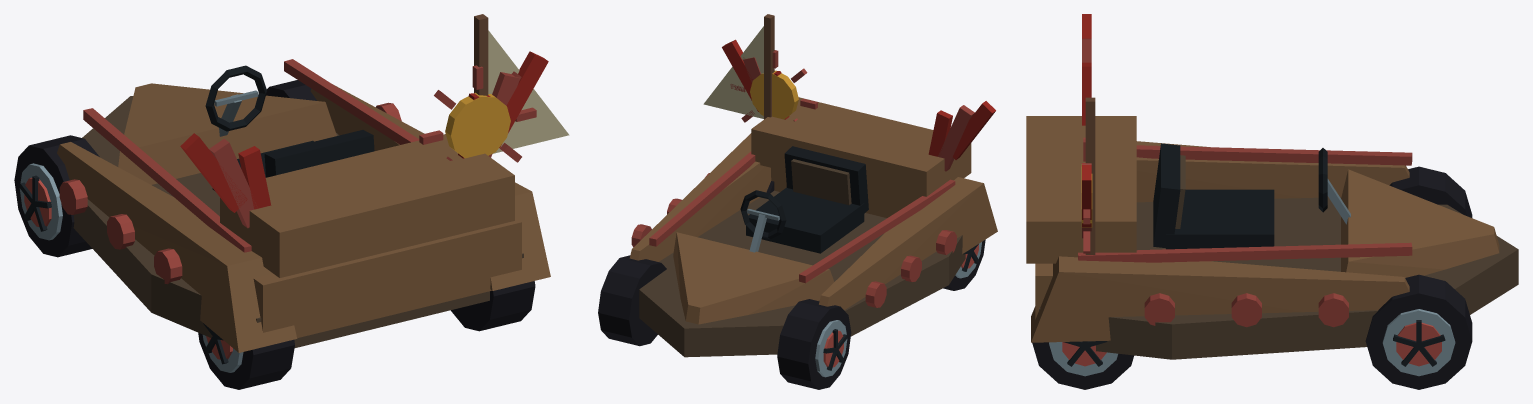
The model's file is kart.glb.
3 views of the same model, side by side, from view 1: azimuth 30°, elevation 25°; view 2: azimuth 150°, elevation 25°; view 3: azimuth 270°, elevation 25° (orthographic). The views are drawn at different scales.
Parts seen in each view (by area): view 1: identity-ship-ship-pointed-bow-and-raised-stern, identity-ship-motif-feathers, wheel-front-left, identity-ship-driver-cockpit, identity-ship-motif-sun, identity-ship-motif-sail, wheel-rear-left, wheel-rear-right, wheel-front-right; view 2: identity-ship-ship-pointed-bow-and-raised-stern, identity-ship-driver-cockpit, wheel-front-left, wheel-front-right, identity-ship-motif-feathers, identity-ship-motif-sail, identity-ship-motif-sun, wheel-rear-left; view 3: identity-ship-ship-pointed-bow-and-raised-stern, identity-ship-driver-cockpit, wheel-front-right, wheel-rear-right, wheel-front-left, identity-ship-motif-feathers, identity-ship-motif-sail, identity-ship-motif-sun.
Part boxes in pixels (left/top/right/bottom): identity-ship-ship-pointed-bow-and-raised-stern: left=57, top=59, right=550, bottom=352; identity-ship-motif-feathers: left=180, top=51, right=548, bottom=228; wheel-front-left: left=14, top=135, right=99, bottom=257; identity-ship-driver-cockpit: left=205, top=65, right=374, bottom=190; identity-ship-motif-sun: left=419, top=65, right=536, bottom=162; identity-ship-motif-sail: left=474, top=14, right=569, bottom=153; wheel-rear-left: left=198, top=323, right=294, bottom=389; wheel-rear-right: left=451, top=281, right=535, bottom=331; wheel-front-right: left=266, top=80, right=316, bottom=100; identity-ship-ship-pointed-bow-and-raised-stern: left=629, top=97, right=997, bottom=357; identity-ship-driver-cockpit: left=740, top=146, right=868, bottom=253; wheel-front-left: left=777, top=299, right=851, bottom=389; wheel-front-right: left=598, top=255, right=666, bottom=346; identity-ship-motif-feathers: left=722, top=39, right=995, bottom=171; identity-ship-motif-sail: left=703, top=14, right=774, bottom=119; identity-ship-motif-sun: left=730, top=50, right=817, bottom=122; wheel-rear-left: left=943, top=239, right=985, bottom=290; identity-ship-ship-pointed-bow-and-raised-stern: left=1026, top=116, right=1518, bottom=359; identity-ship-driver-cockpit: left=1153, top=143, right=1350, bottom=249; wheel-front-right: left=1365, top=274, right=1472, bottom=389; wheel-rear-right: left=1032, top=341, right=1133, bottom=389; wheel-front-left: left=1389, top=166, right=1472, bottom=217; identity-ship-motif-feathers: left=1082, top=14, right=1091, bottom=238; identity-ship-motif-sail: left=1085, top=97, right=1095, bottom=254; identity-ship-motif-sun: left=1081, top=137, right=1092, bottom=253.
Size of the model in its own units: 2.33 by 1.74 by 2.77.
